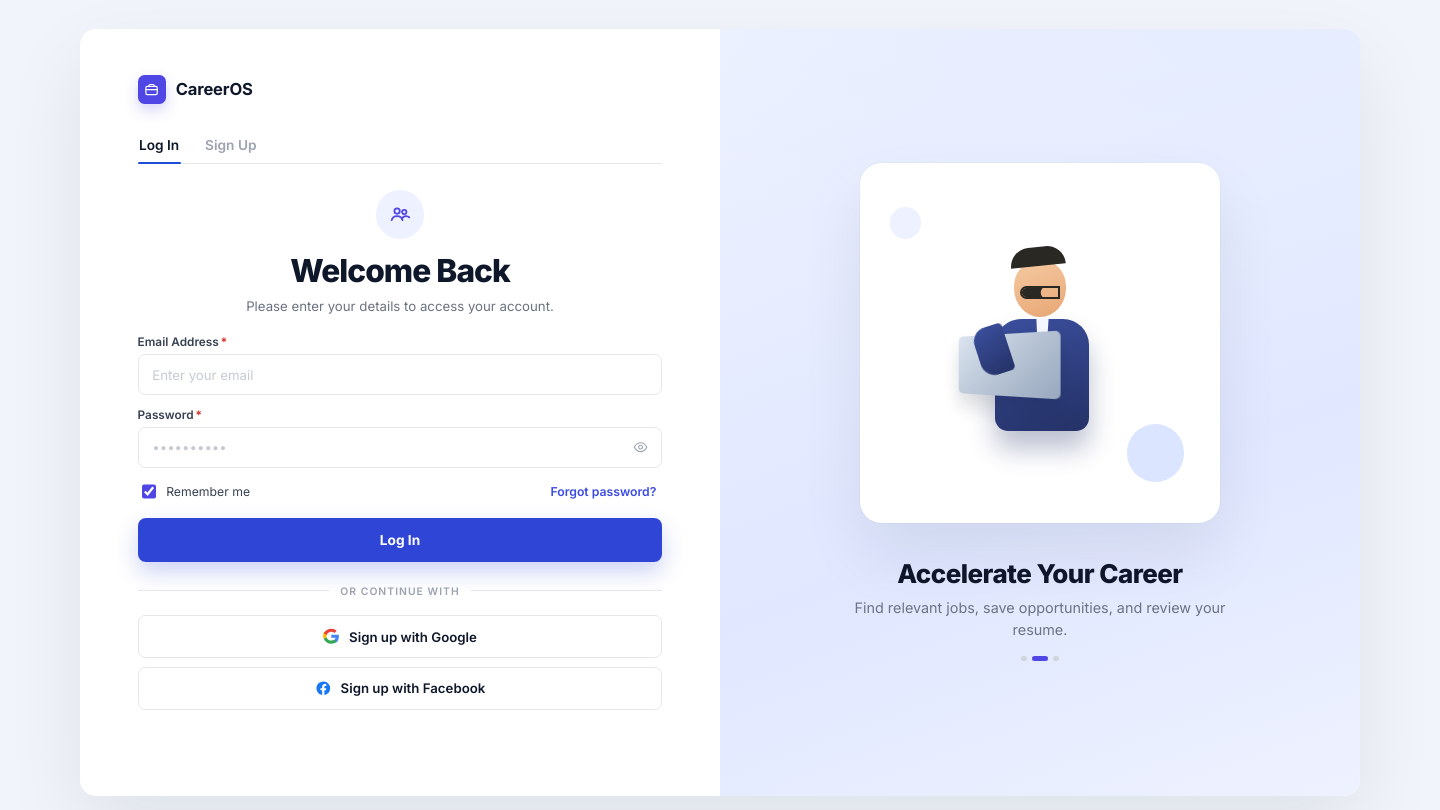
Test: AuthPage — signup mode › shows the full name field after switching to signup
Click the button "Sign Up" at (231, 145), box [204,128,258,163]
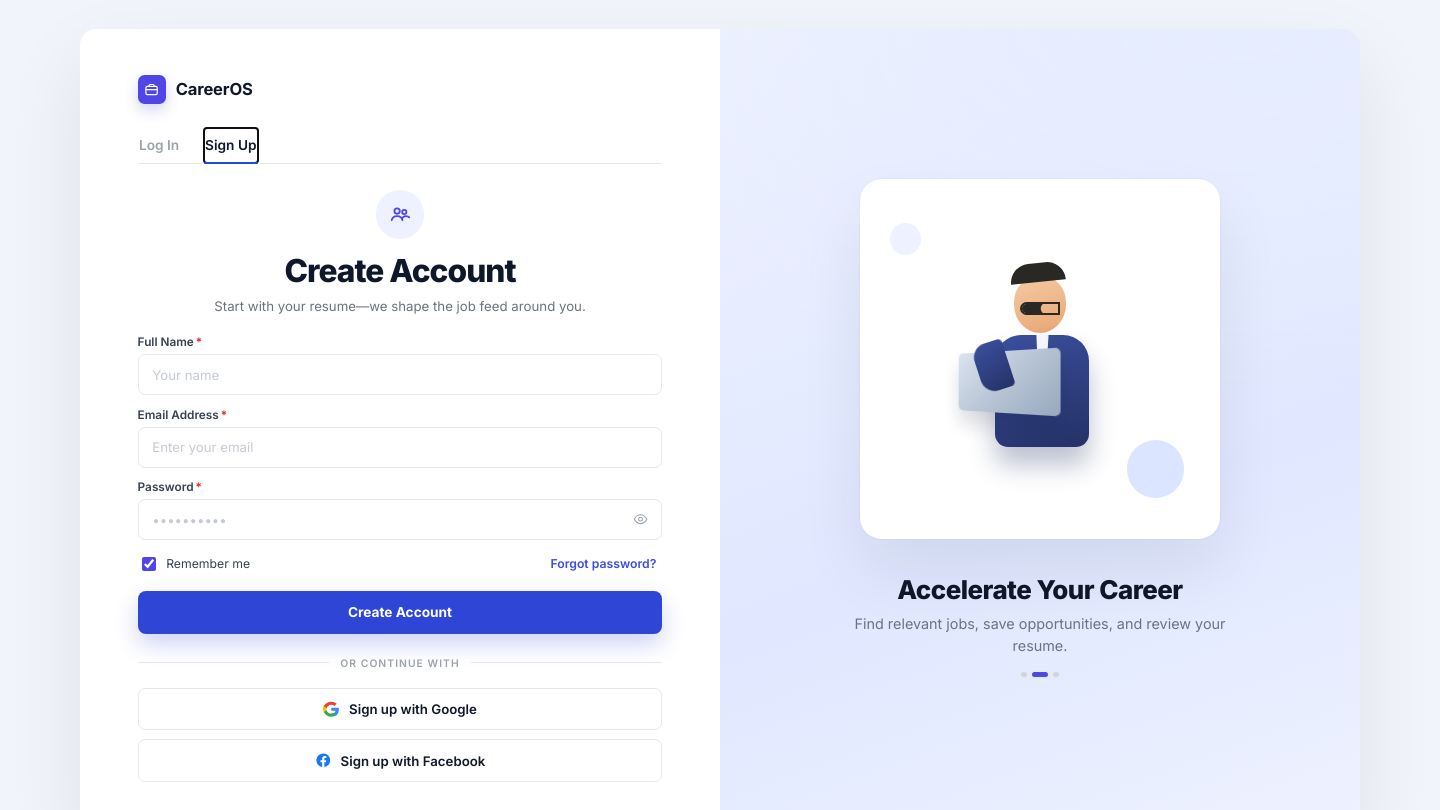
Expected: the field with placeholder "Your name" is shown, [138,354,662,395]
